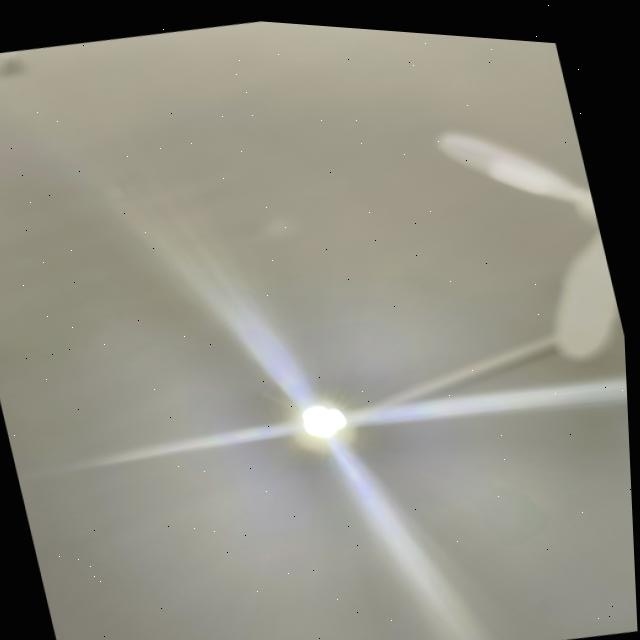fluorescent tube: (245, 362, 385, 493)
